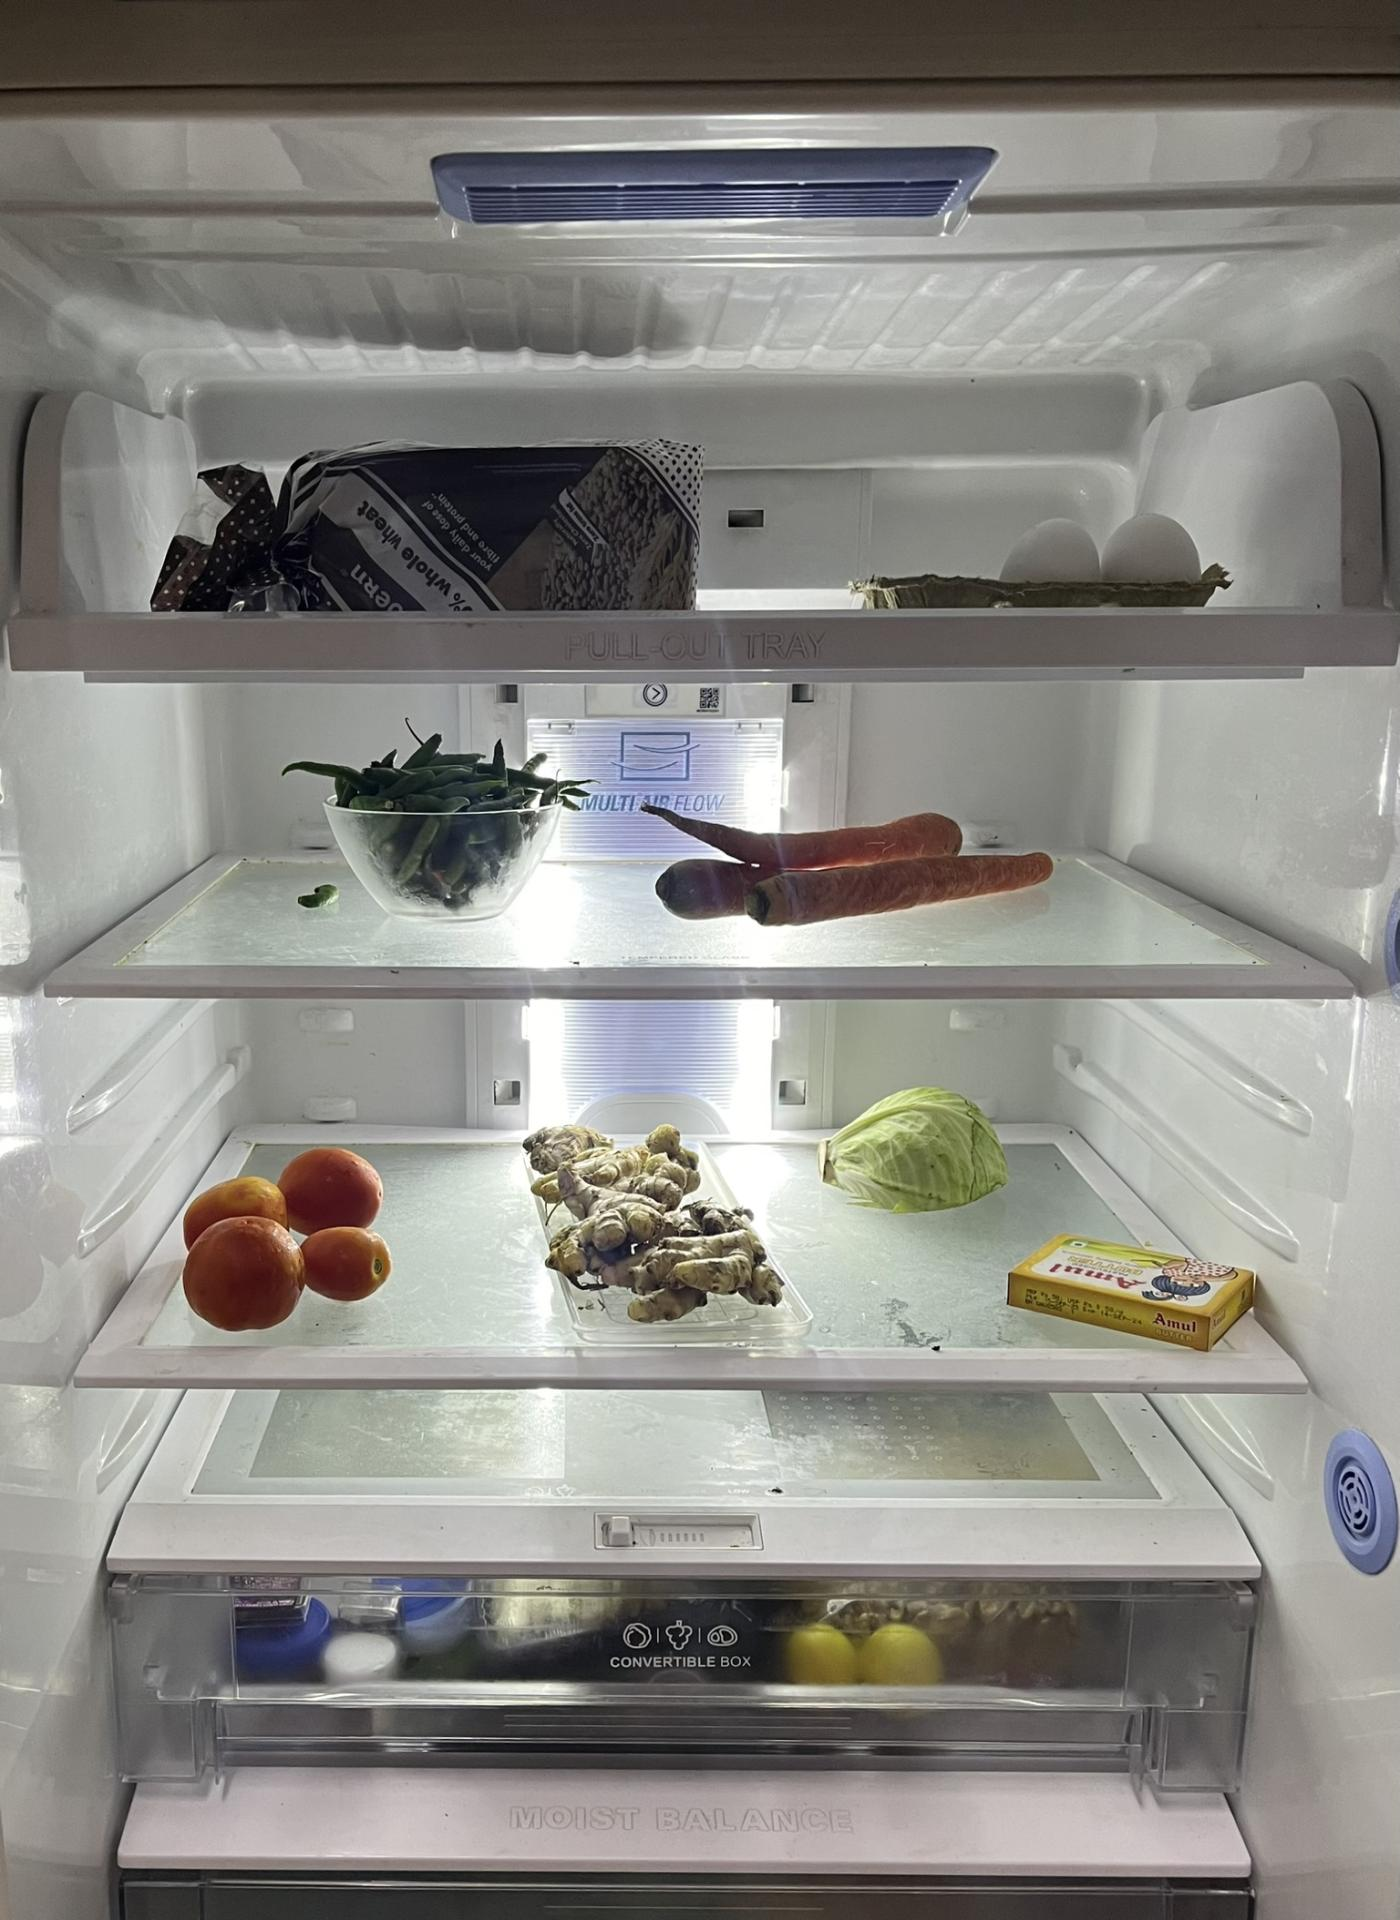bread: (155, 453, 705, 613)
butter: (1015, 1228, 1261, 1356)
cabbage: (814, 1077, 1016, 1207)
carrots: (648, 805, 1058, 921)
chillies: (328, 738, 556, 916)
egg: (1003, 515, 1206, 597)
ginger: (529, 1125, 777, 1316)
tomato: (177, 1146, 392, 1328)
